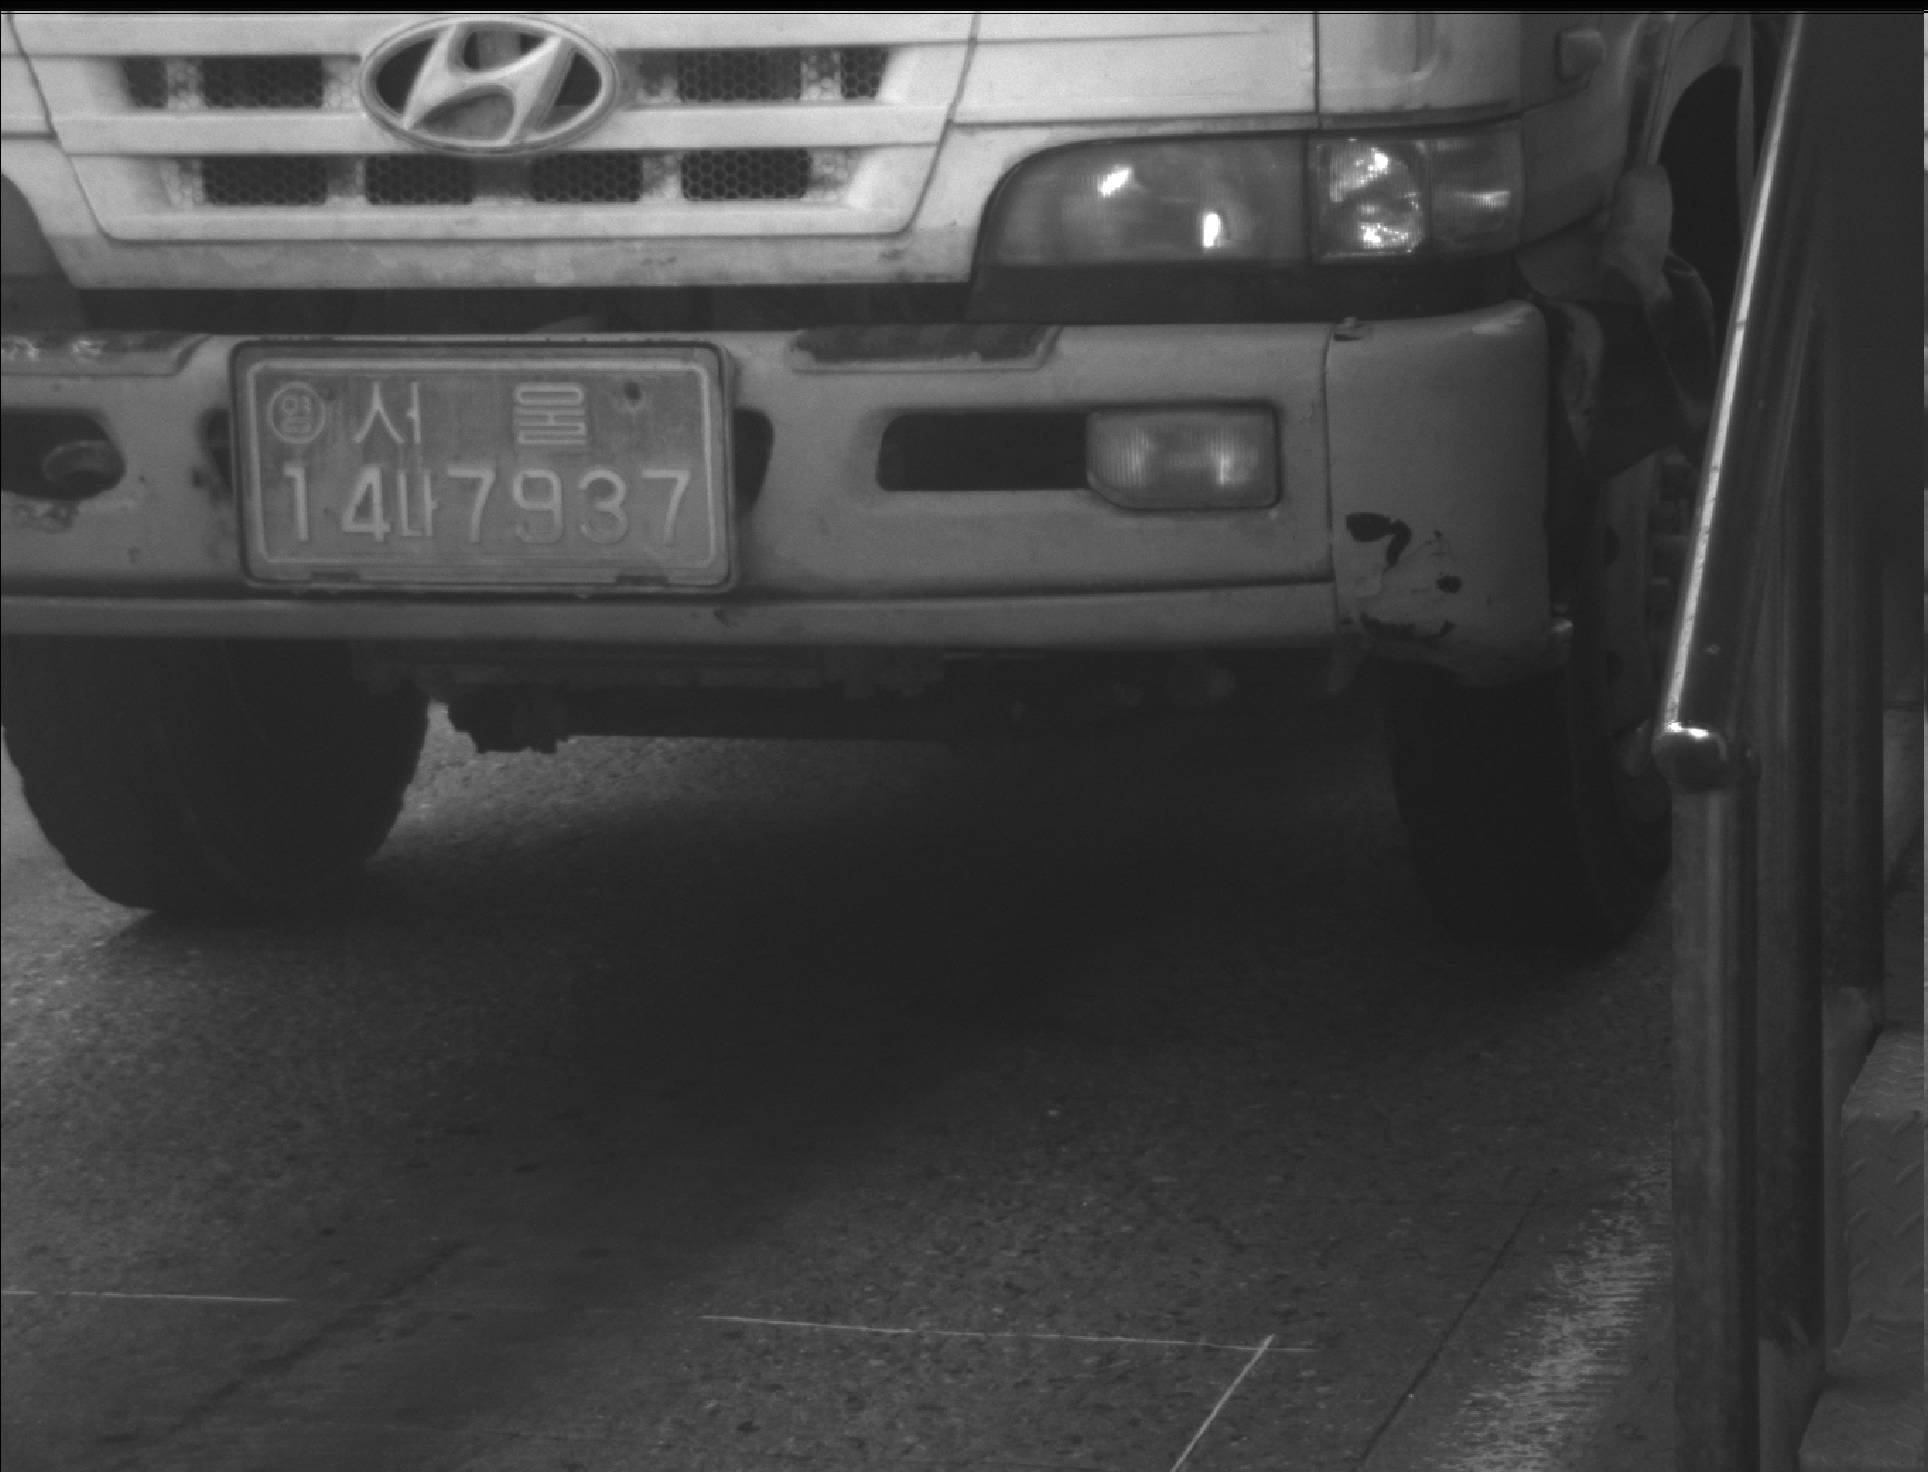car: (1, 1, 1683, 963)
plate: (231, 345, 735, 593)
